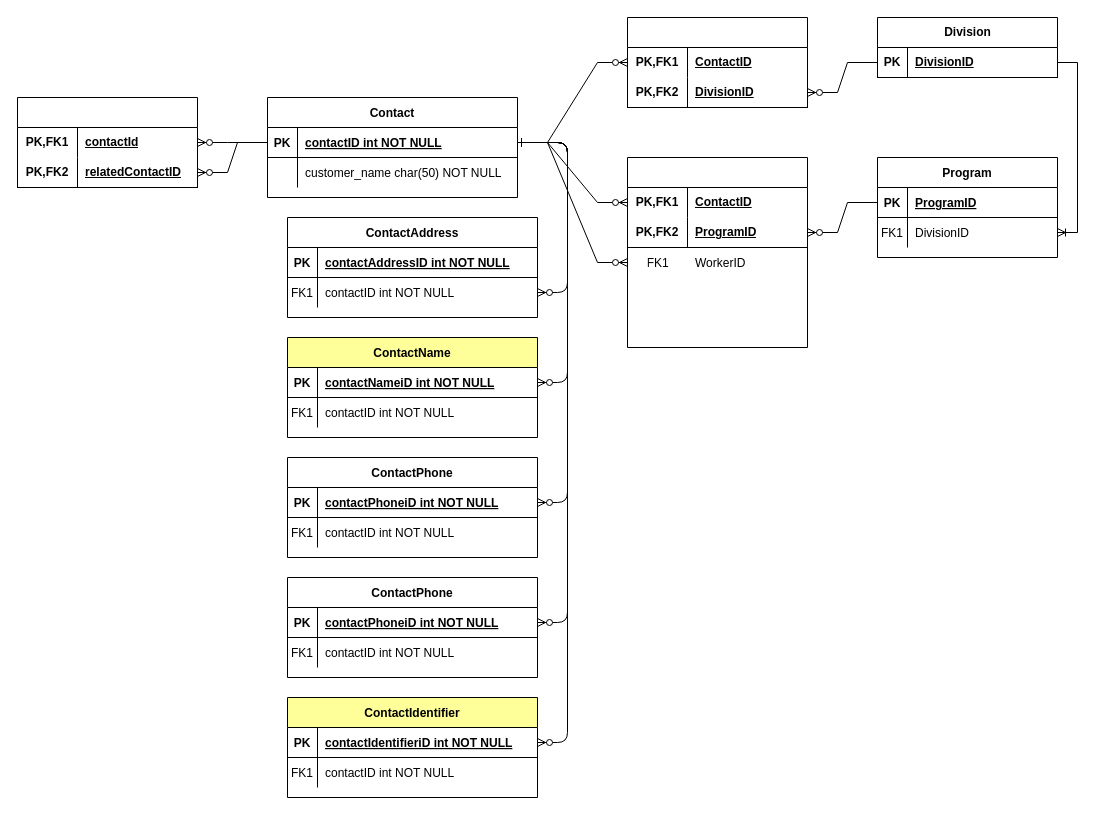
The diagram is 1103 pixels wide and 815 high, and some of its shapes have lost their labels. Here are the shapes that lost their labels. From the top down, the box of each, then its label:
(626, 16, 808, 108): ContactDivision
(16, 96, 198, 188): ContactRelation
(626, 156, 808, 348): ContactProgram
